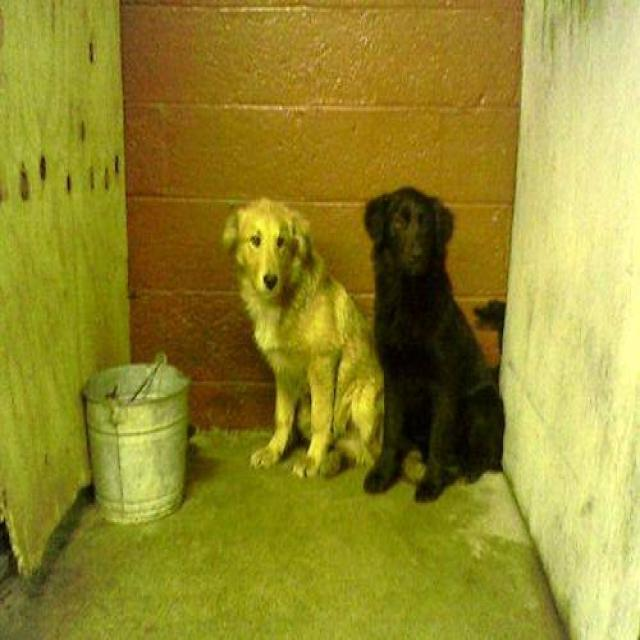dogs: (356, 171, 520, 525), (206, 181, 384, 493)
